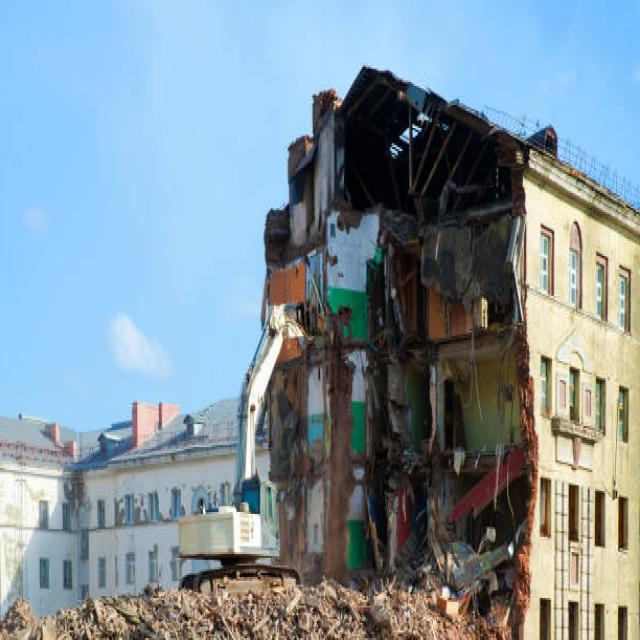Destroyed_building: (230, 1, 588, 640)
